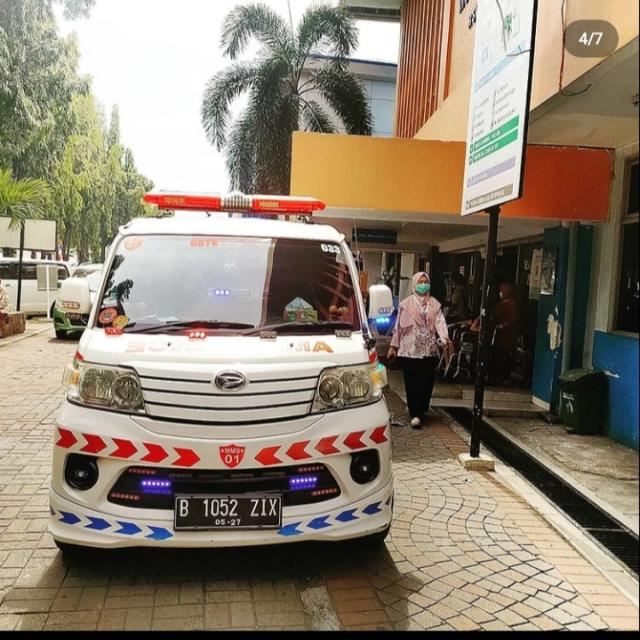emergency-vehicle: (44, 191, 423, 560)
